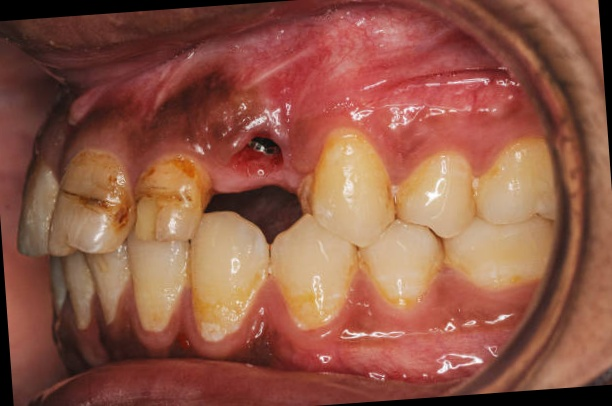Gingivitis: (143, 66, 239, 156), (237, 316, 289, 369), (98, 320, 150, 361), (162, 328, 204, 361)
